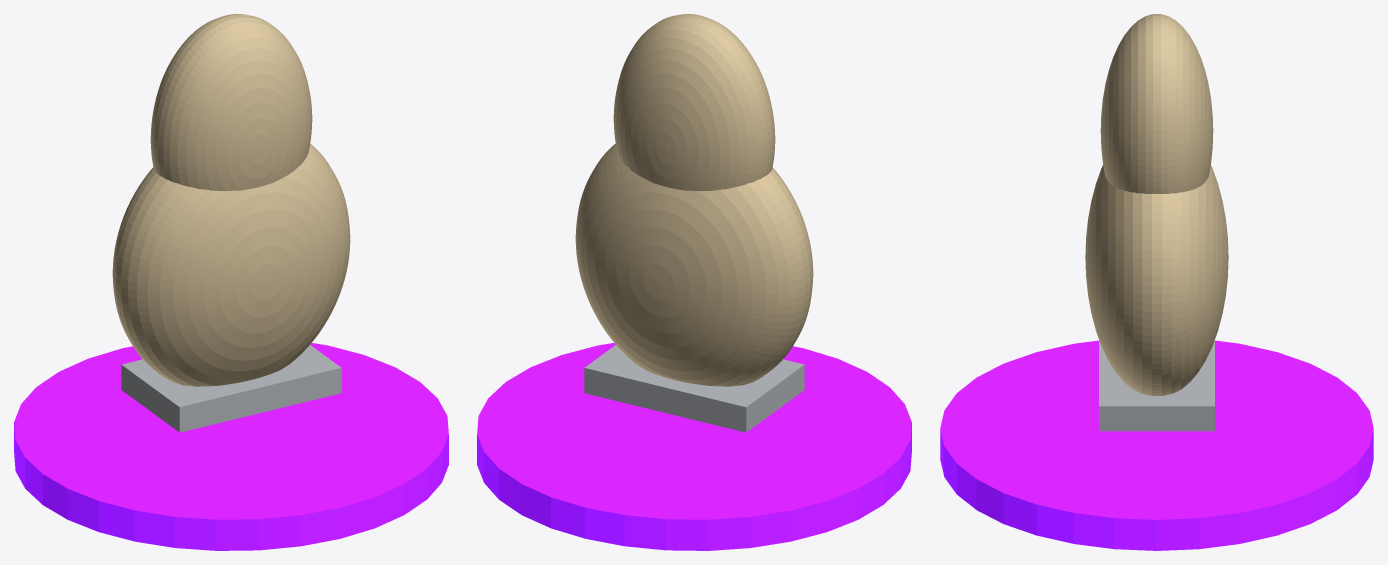
File: modelling_mannequin_torso.dae
The picture shows the model from 3 angles, left to right: view 1: azimuth 30°, elevation 25°; view 2: azimuth 150°, elevation 25°; view 3: azimuth 270°, elevation 25°; orthographic projection.
Visible parts, largest first — view 1: 05_04_Popular_Modelling_Mannequin_Torso_ROOT_base, 05_04_Popular_Modelling_Mannequin_Torso_part_02, 05_04_Popular_Modelling_Mannequin_Torso_part_01, 05_04_Popular_Modelling_Mannequin_Torso_part_04; view 2: 05_04_Popular_Modelling_Mannequin_Torso_ROOT_base, 05_04_Popular_Modelling_Mannequin_Torso_part_02, 05_04_Popular_Modelling_Mannequin_Torso_part_01, 05_04_Popular_Modelling_Mannequin_Torso_part_04; view 3: 05_04_Popular_Modelling_Mannequin_Torso_ROOT_base, 05_04_Popular_Modelling_Mannequin_Torso_part_02, 05_04_Popular_Modelling_Mannequin_Torso_part_01, 05_04_Popular_Modelling_Mannequin_Torso_part_04.
Boxes of the visible parts, x1,y1,x2,y2 form: 05_04_Popular_Modelling_Mannequin_Torso_ROOT_base: (14,343,448,550); 05_04_Popular_Modelling_Mannequin_Torso_part_02: (112,144,350,386); 05_04_Popular_Modelling_Mannequin_Torso_part_01: (150,14,312,191); 05_04_Popular_Modelling_Mannequin_Torso_part_04: (121,345,341,432); 05_04_Popular_Modelling_Mannequin_Torso_ROOT_base: (477,343,911,550); 05_04_Popular_Modelling_Mannequin_Torso_part_02: (575,144,813,386); 05_04_Popular_Modelling_Mannequin_Torso_part_01: (613,14,775,191); 05_04_Popular_Modelling_Mannequin_Torso_part_04: (584,345,804,432); 05_04_Popular_Modelling_Mannequin_Torso_ROOT_base: (940,340,1373,550); 05_04_Popular_Modelling_Mannequin_Torso_part_02: (1085,165,1228,395); 05_04_Popular_Modelling_Mannequin_Torso_part_01: (1100,14,1213,193); 05_04_Popular_Modelling_Mannequin_Torso_part_04: (1099,340,1214,431).
Bounding box in the file's own units: 0.76 × 0.85 × 0.76.
